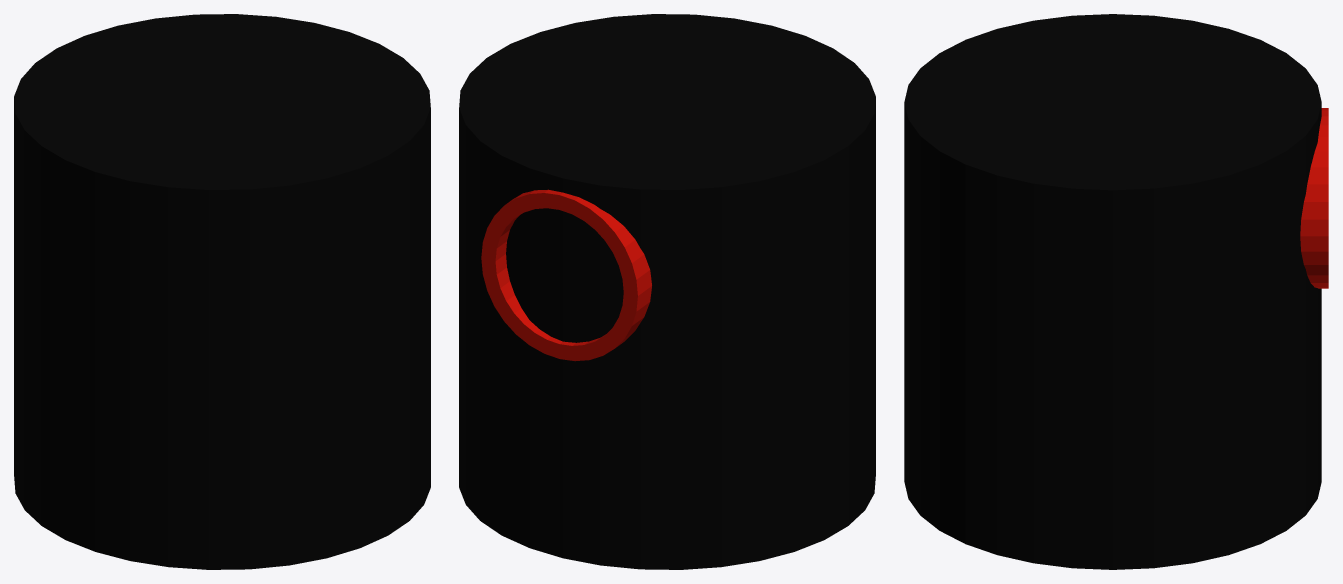
The model's file is hero-pedastool.obj.
3 views of the same model, side by side, from view 1: azimuth 30°, elevation 25°; view 2: azimuth 150°, elevation 25°; view 3: azimuth 270°, elevation 25° (orthographic).
Visible parts, largest first — view 1: Cylinder.001_Cylinder; view 2: Cylinder.001_Cylinder, Circle; view 3: Cylinder.001_Cylinder, Circle.
Part boxes in pixels (bbox=[...]): Cylinder.001_Cylinder: bbox=[14, 14, 430, 569]; Cylinder.001_Cylinder: bbox=[459, 14, 875, 569]; Circle: bbox=[481, 189, 651, 361]; Cylinder.001_Cylinder: bbox=[904, 14, 1321, 569]; Circle: bbox=[1300, 108, 1328, 288].
Size of the model in its own units: 2.39 by 2.4 by 2.43.
